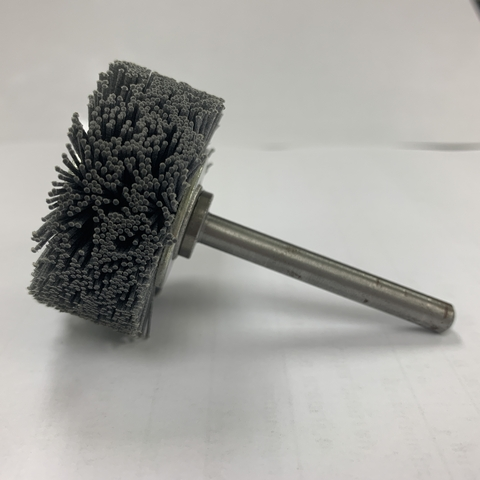Wheel Brush: (22, 56, 466, 357), (62, 56, 457, 345), (34, 45, 232, 360)
